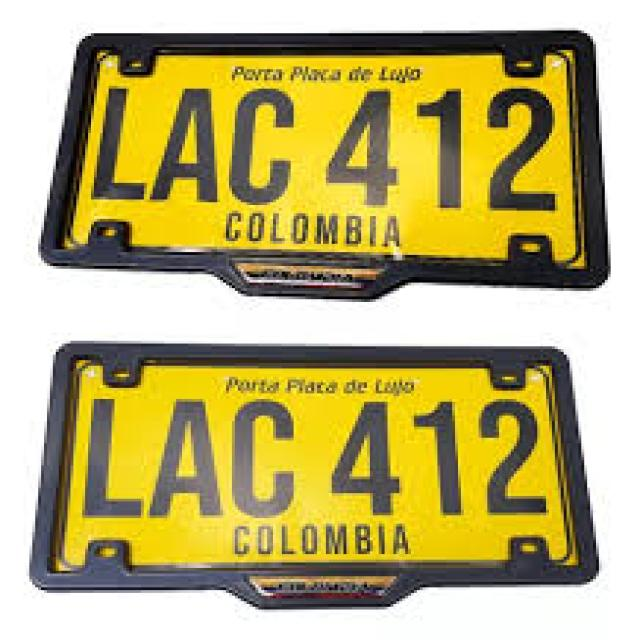number plate: (38, 30, 602, 291), (29, 341, 590, 601)
